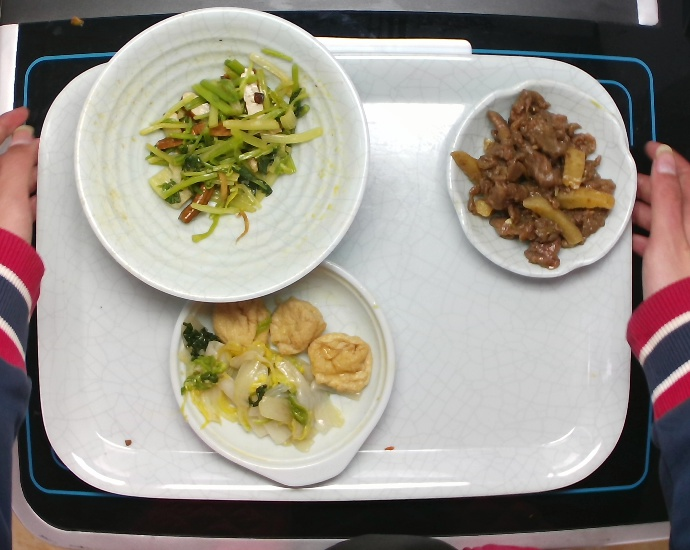JYsf-Ao_Yuan_Wan: (440, 69, 644, 287)
JYsf-Shuang_Er_Pan: (167, 226, 401, 495)
JYsf-Xiao_Tang_Wan: (63, 2, 375, 309)
